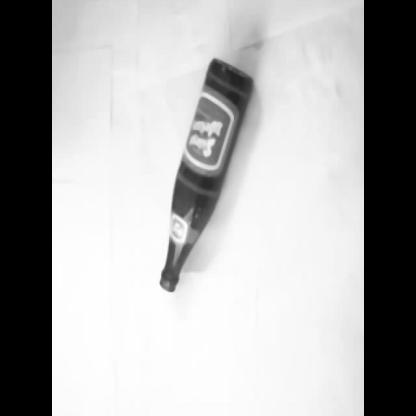Can: (158, 58, 254, 294)
